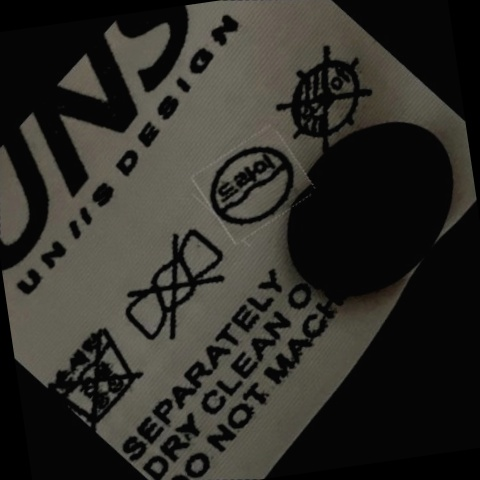DN_dry: (267, 41, 383, 158)
DN_wring: (110, 223, 241, 354)
dry_clean: (201, 132, 306, 240)
hand_wash: (43, 312, 154, 431)
